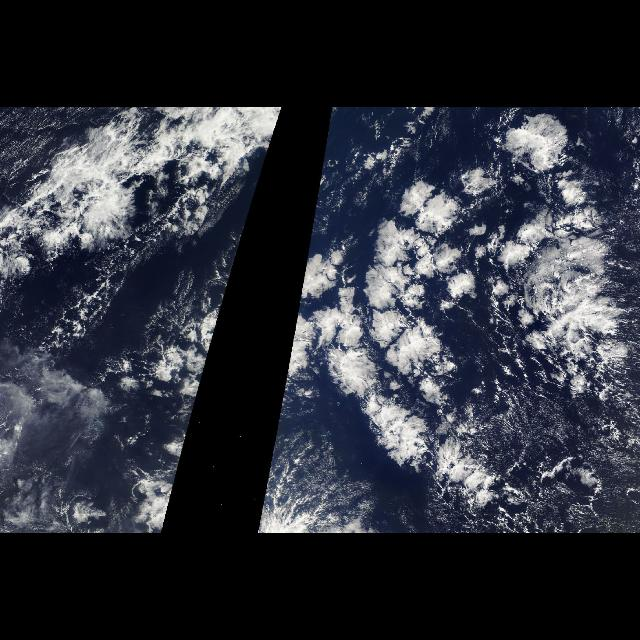Fish: (256, 412, 380, 534), (108, 412, 194, 534)
Flower: (258, 121, 640, 524), (246, 120, 280, 222)
Sugar: (512, 402, 634, 530)
